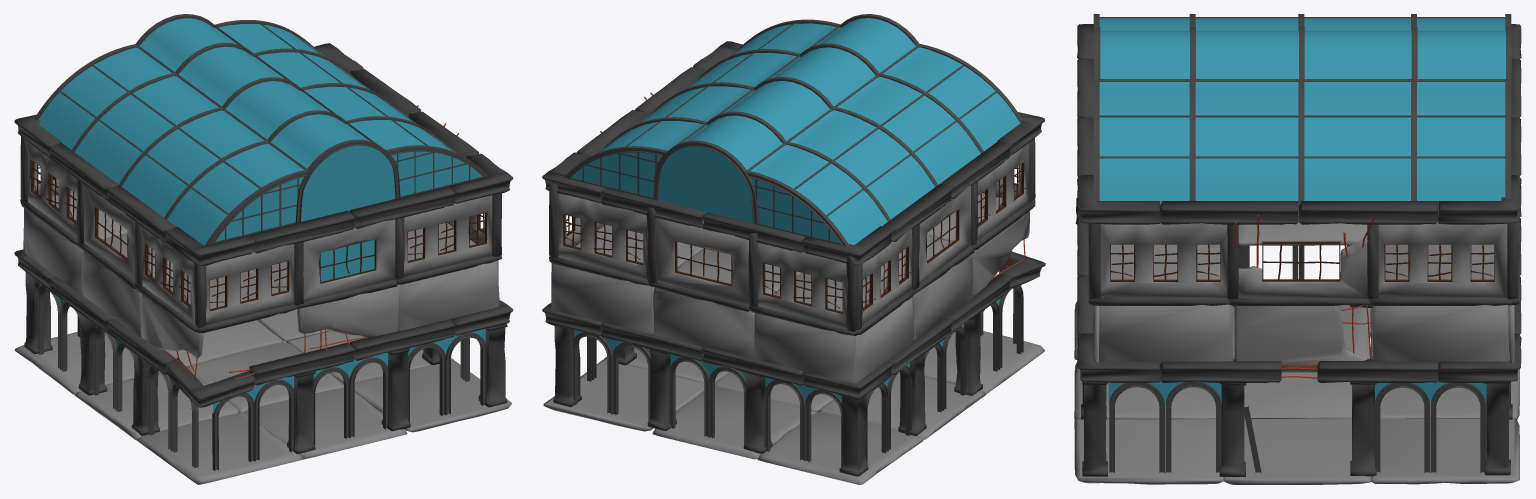
File: SM_building_ruins_06.fbx
3 views of the same model, side by side, from view 1: azimuth 30°, elevation 25°; view 2: azimuth 150°, elevation 25°; view 3: azimuth 270°, elevation 25° (orthographic). The views are drawn at different scales.
Parts seen in each view (by area): view 1: Object32476; view 2: Object32476; view 3: Object32476.
Boxes of the visible parts, <box> form: Object32476: <box>14,14,513,484</box>; Object32476: <box>542,14,1045,484</box>; Object32476: <box>1074,14,1521,484</box>.
Size of the model in its own units: 653 by 561 by 632.
